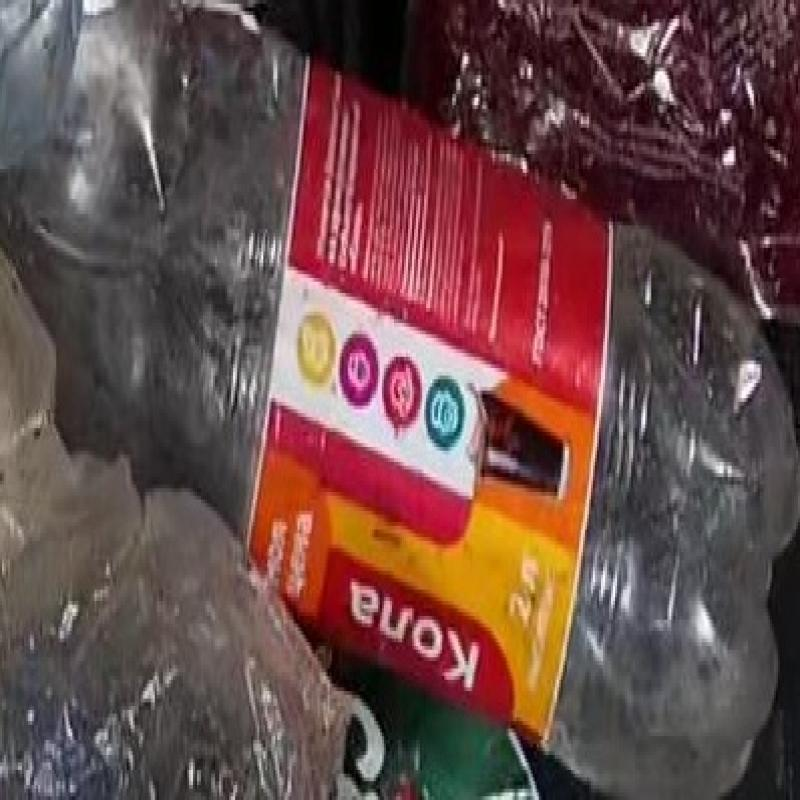botella: (0, 0, 798, 796)
